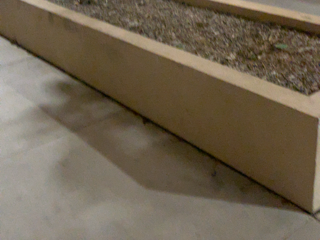Edge: (203, 78, 317, 215), (97, 38, 228, 147), (0, 4, 112, 80)
